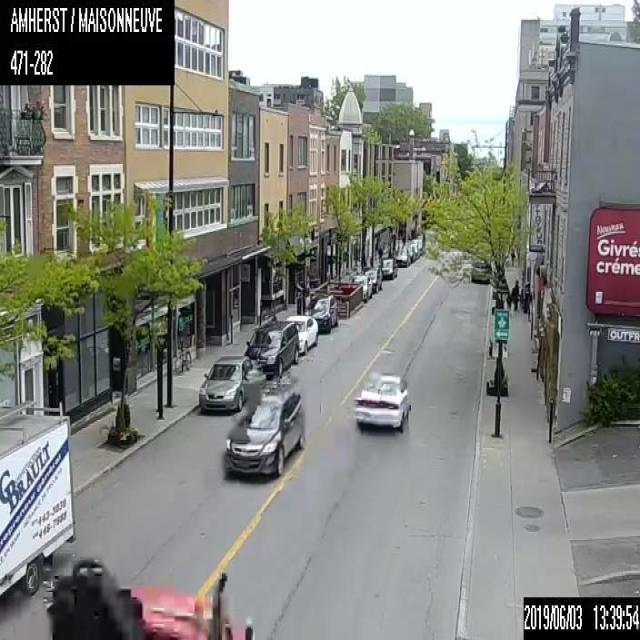pedestrian: (294, 276, 302, 313), (511, 278, 518, 318), (377, 244, 382, 263), (510, 248, 515, 266), (401, 232, 405, 243)
vehicle: (46, 558, 256, 638), (0, 400, 75, 596), (224, 385, 306, 476), (354, 370, 409, 430), (198, 354, 254, 411), (243, 320, 298, 377), (304, 294, 338, 332), (285, 314, 317, 354), (349, 274, 372, 302), (361, 266, 381, 291), (470, 259, 490, 284), (377, 257, 397, 279), (393, 248, 409, 266), (400, 244, 415, 261)
